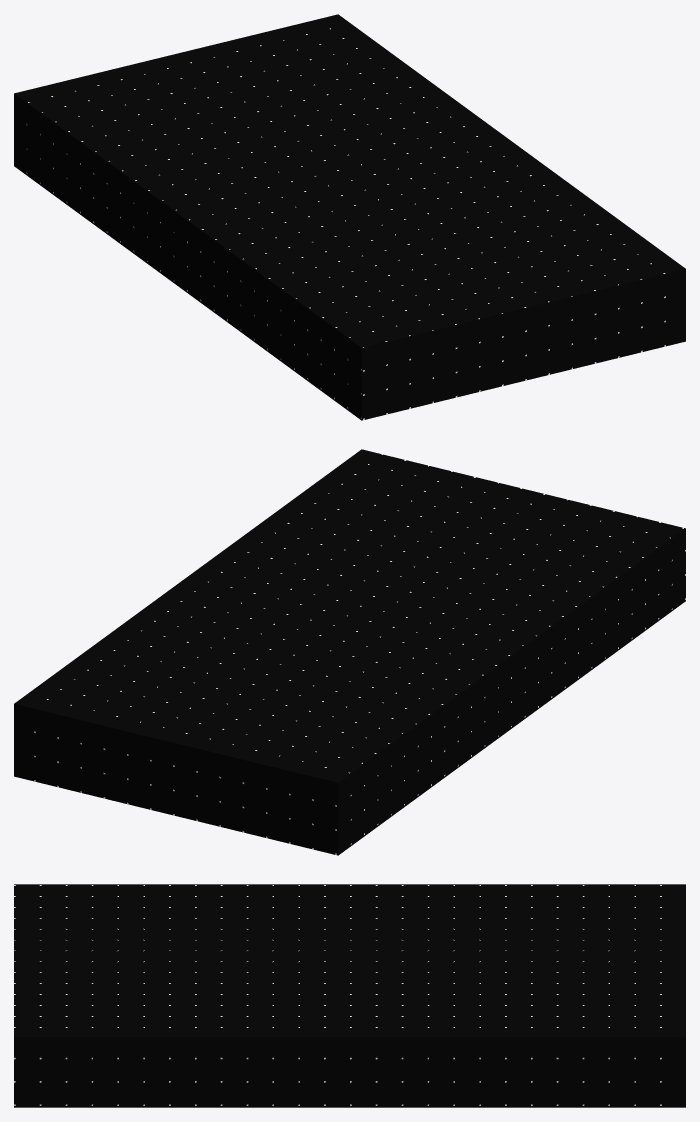
File: carte_gioco_usv.gltf
3 renders of one model, top to bottom at view 1: azimuth 30°, elevation 25°; view 2: azimuth 150°, elevation 25°; view 3: azimuth 270°, elevation 25°, orthographic. The views are drawn at different scales.
Visible parts, largest first — view 1: Layer.1, Layer.2; view 2: Layer.1, Layer.2; view 3: Layer.1, Layer.2.
Boxes of the visible parts, box(x1,y1,x2,y2) form: Layer.1: box(51, 30, 648, 332); Layer.2: box(14, 14, 685, 420); Layer.1: box(51, 465, 648, 767); Layer.2: box(14, 449, 685, 855); Layer.1: box(40, 895, 659, 1026); Layer.2: box(14, 884, 685, 1107).
Size of the model in its own units: 14 by 3 by 26.
Materials: 1 (1 with a texture image).
